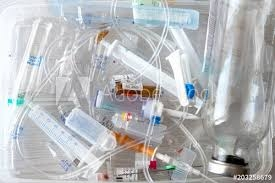plastic: (201, 1, 275, 181), (92, 36, 204, 111), (25, 103, 103, 171), (7, 14, 60, 109), (66, 109, 122, 154)
